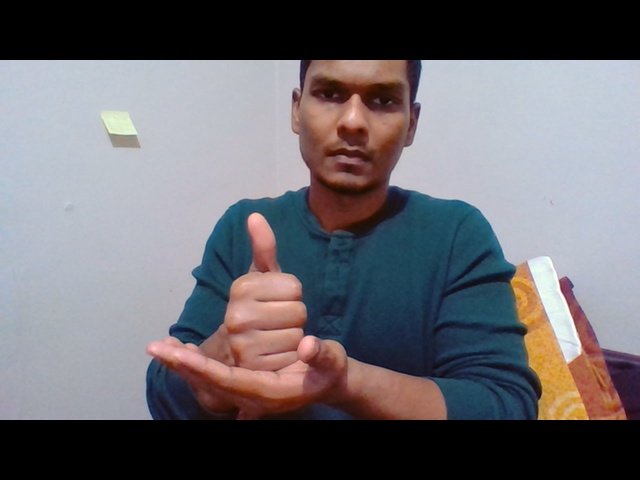Help: (146, 210, 350, 420)
